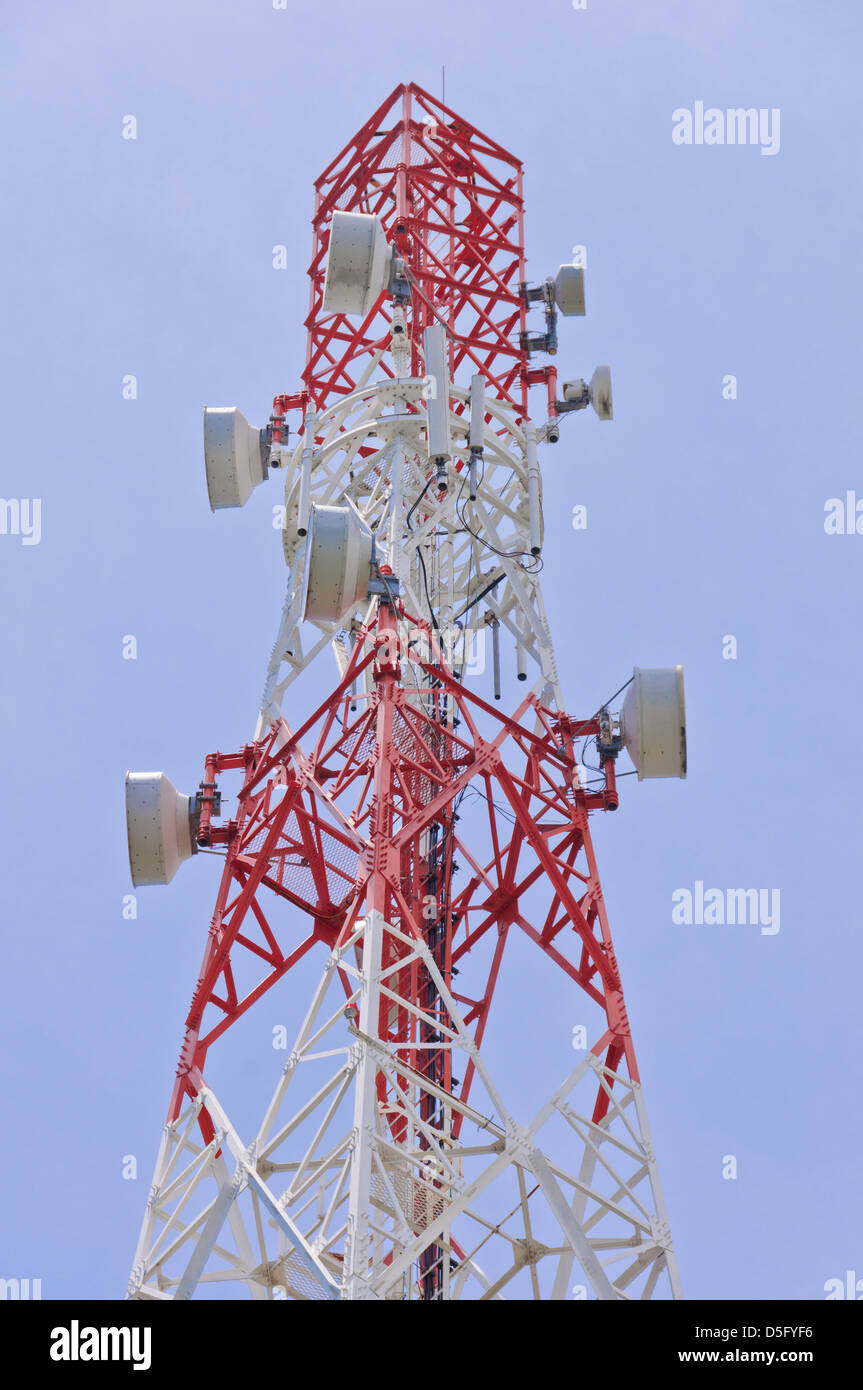ba: (589, 638, 705, 821), (101, 742, 227, 905), (297, 208, 417, 338), (193, 399, 294, 552)
